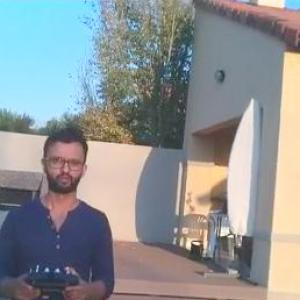follow: (0, 116, 121, 299)
